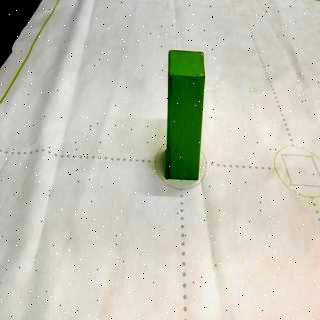greenbox: (166, 49, 204, 180)
